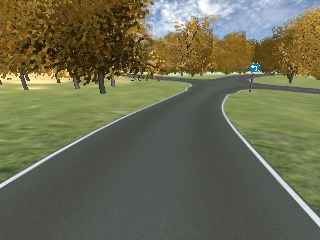left: (249, 62, 259, 73)
